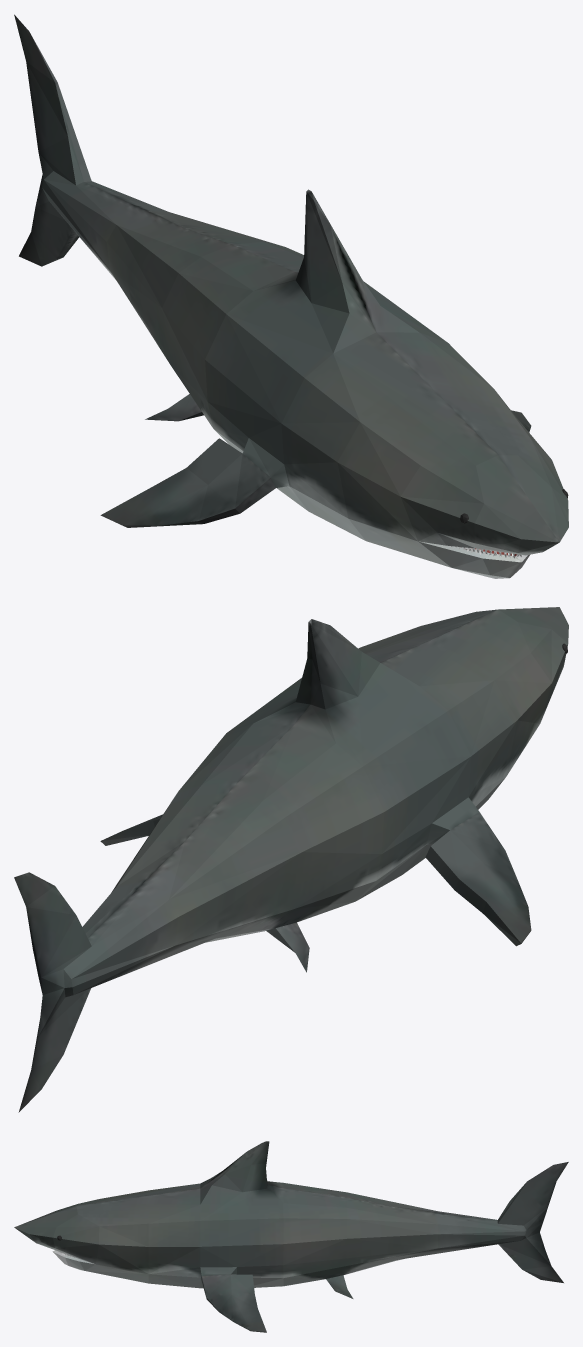
Rendered from animals-shark-180.glb.
3 renders of one model, top to bottom at view 1: azimuth 30°, elevation 25°; view 2: azimuth 150°, elevation 25°; view 3: azimuth 270°, elevation 25°, orthographic. The views are drawn at different scales.
Parts seen in each view (by area): view 1: Node; view 2: Node; view 3: Node.
Part boxes in pixels (x1,y1,x2,y2): Node: [14, 14, 568, 578]; Node: [14, 607, 568, 1112]; Node: [14, 1141, 568, 1332].
Size of the model in its own units: 3.55 by 2.25 by 7.96.
Materials: 4 (1 with a texture image).
